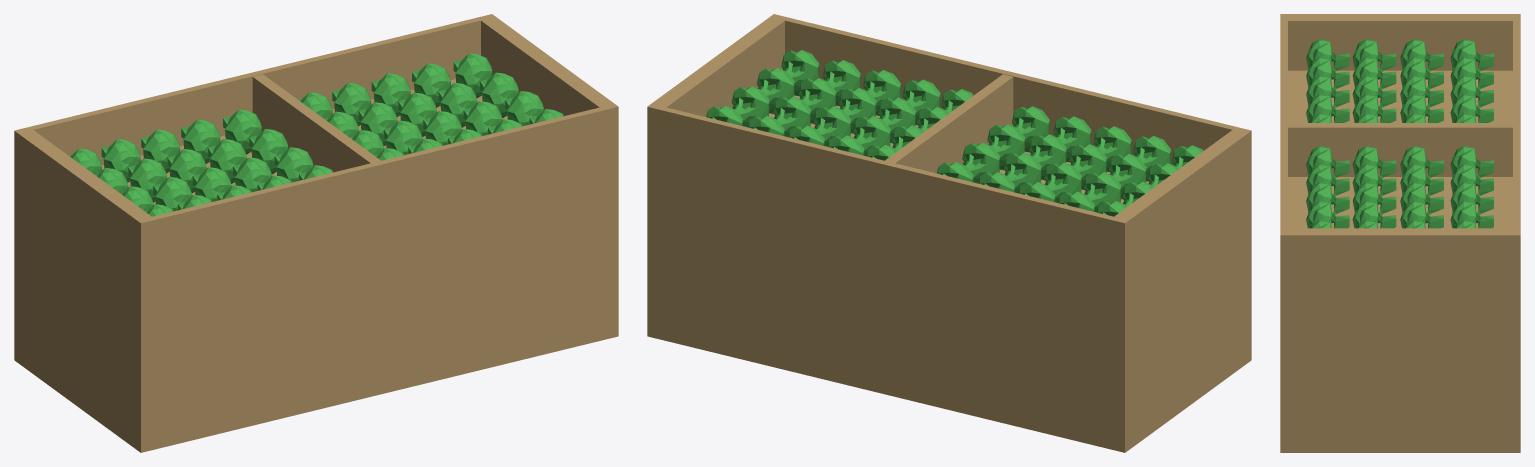
File: broccoli_box.gltf
The picture shows the model from 3 angles, left to right: view 1: azimuth 30°, elevation 25°; view 2: azimuth 150°, elevation 25°; view 3: azimuth 270°, elevation 25°; orthographic projection. The views are drawn at different scales.
Visible parts, largest first — view 1: Cube; view 2: Cube; view 3: Cube.
Part boxes in pixels (bbox=[...]): Cube: bbox=[14, 14, 618, 452]; Cube: bbox=[647, 14, 1251, 452]; Cube: bbox=[1280, 14, 1520, 452].
Size of the model in its own units: 9.22 by 4.23 by 4.23.
